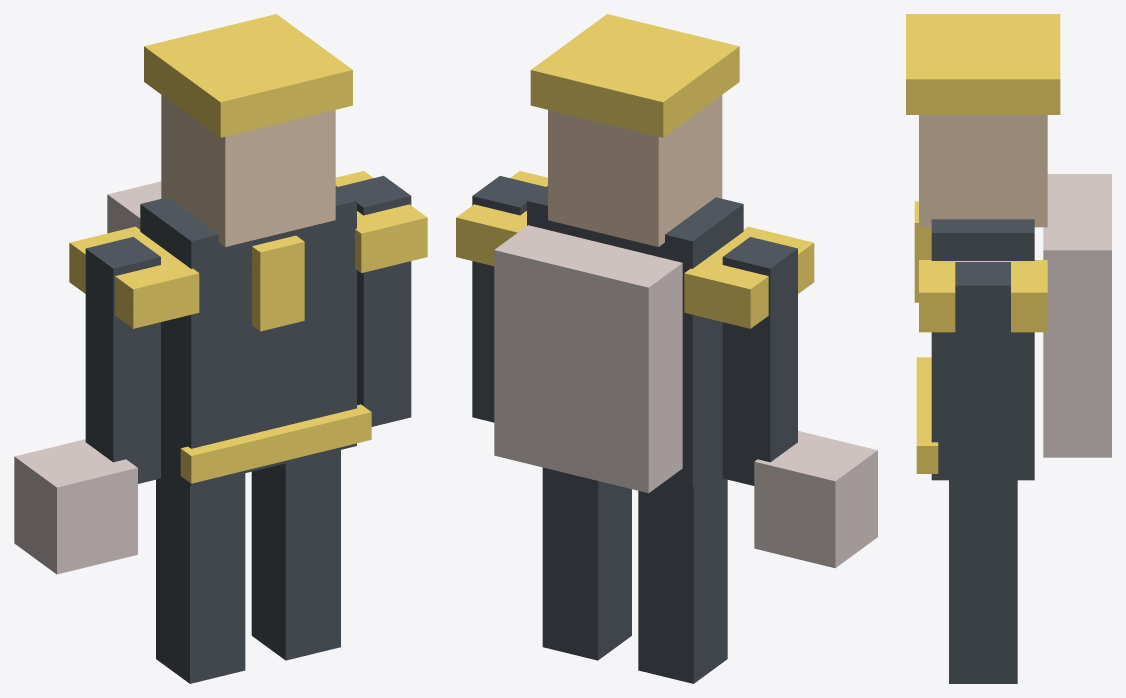
The model's file is 11_zerin_frostrelay_cartographer_from_floodlock.glb.
3 views of the same model, side by side, from view 1: azimuth 30°, elevation 25°; view 2: azimuth 150°, elevation 25°; view 3: azimuth 270°, elevation 25° (orthographic).
Visible parts, largest first — view 1: Zerin Frostrelay, Cartographer from Floodlock; view 2: Zerin Frostrelay, Cartographer from Floodlock; view 3: Zerin Frostrelay, Cartographer from Floodlock.
Boxes of the visible parts, box(x1,y1,x2,y2) form: Zerin Frostrelay, Cartographer from Floodlock: box(14, 14, 427, 683); Zerin Frostrelay, Cartographer from Floodlock: box(456, 14, 877, 683); Zerin Frostrelay, Cartographer from Floodlock: box(906, 14, 1111, 683).
Bounding box in the file's own units: 0.945 × 1.47 × 0.4559.
